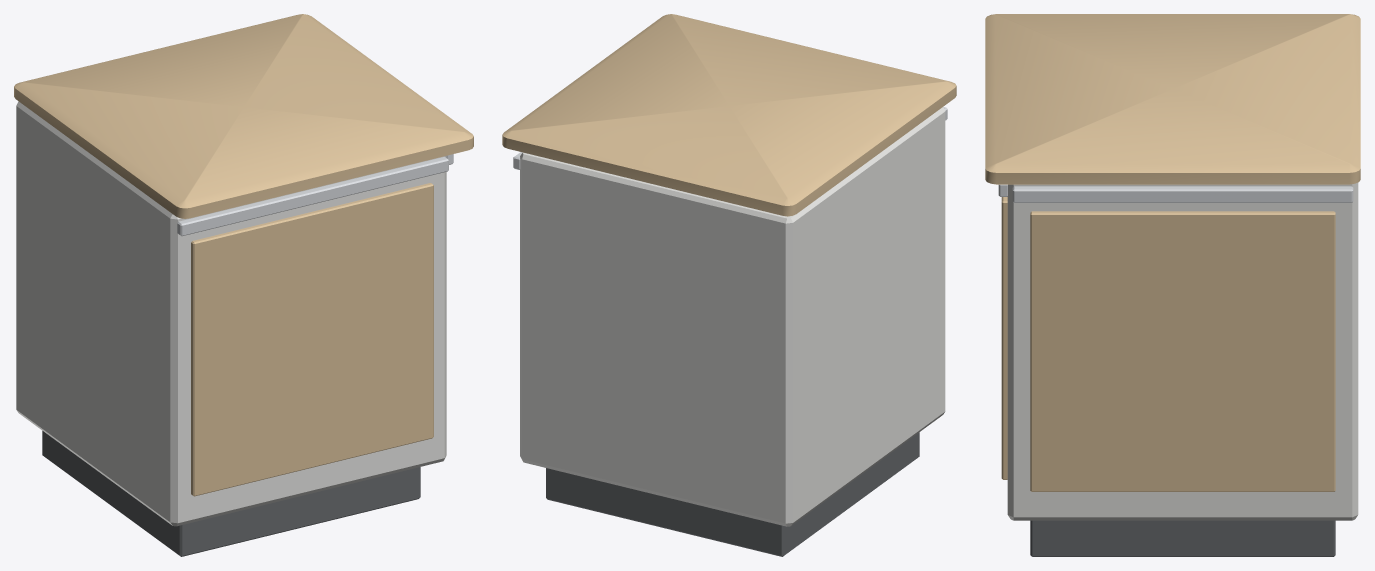
3 renders of one model, left to right at view 1: azimuth 30°, elevation 25°; view 2: azimuth 150°, elevation 25°; view 3: azimuth 270°, elevation 25°, orthographic. The views are drawn at different scales.
Parts seen in each view (by area): view 1: trade-counter-corner; view 2: trade-counter-corner; view 3: trade-counter-corner.
Boxes of the visible parts, left/top/right/bottom form: trade-counter-corner: left=14, top=14, right=473, bottom=556; trade-counter-corner: left=502, top=14, right=956, bottom=556; trade-counter-corner: left=985, top=14, right=1360, bottom=556.
Bounding box in the file's own units: 0.75 × 0.9 × 0.75.
